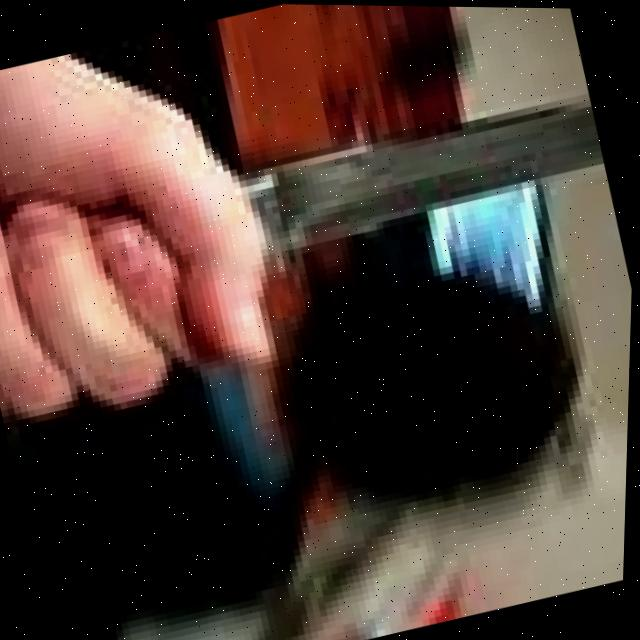knife: (235, 80, 610, 263)
